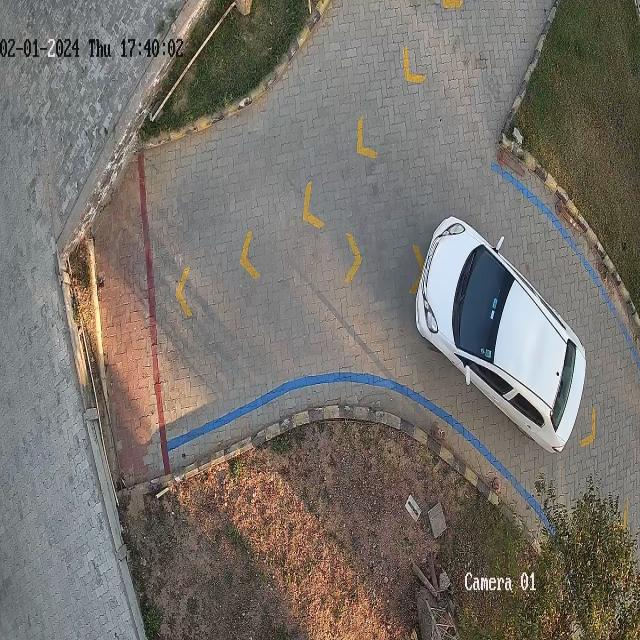car: (416, 217, 588, 455)
